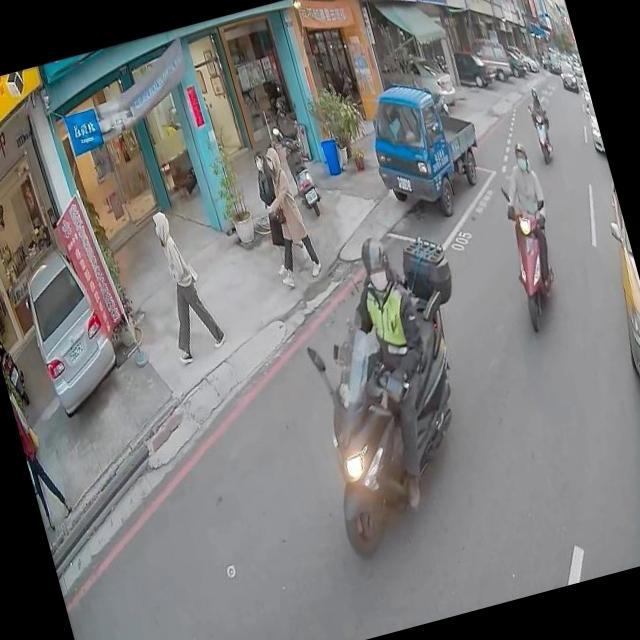person: (280, 228, 466, 522), (133, 194, 229, 368), (486, 141, 570, 306), (244, 127, 326, 286), (241, 138, 319, 279), (521, 82, 557, 161)
